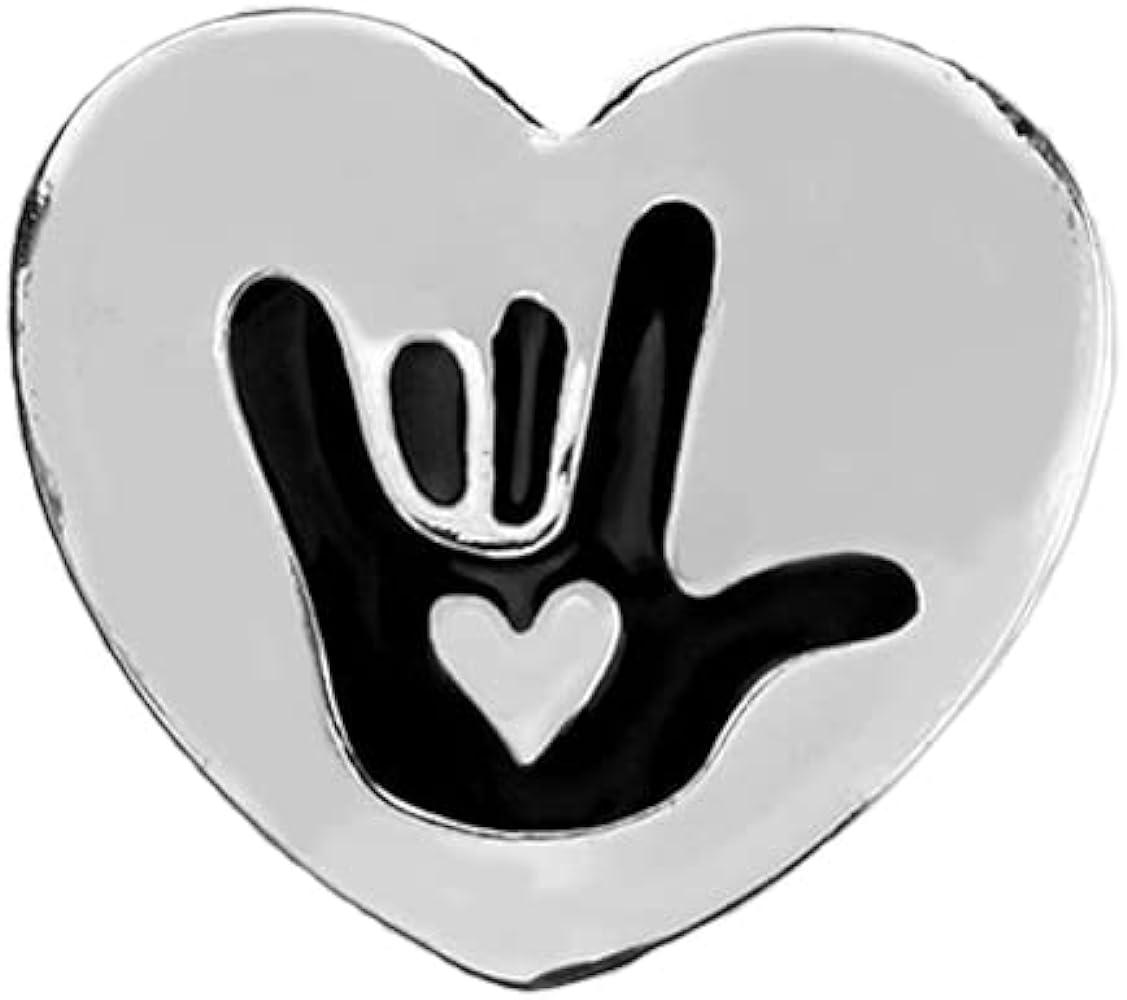Love_you: (198, 180, 938, 824)
